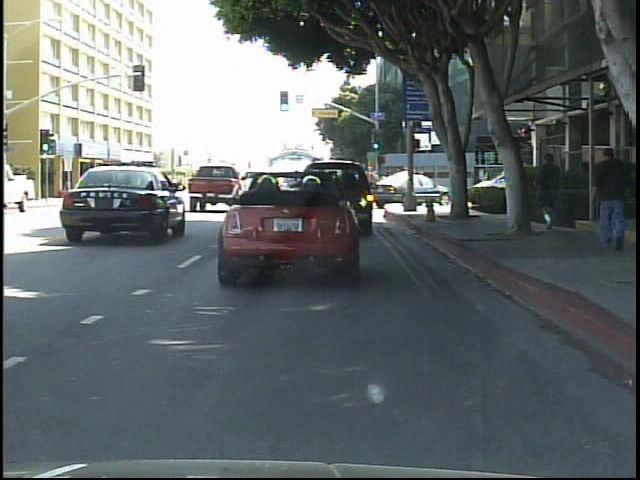person: (591, 141, 636, 260), (531, 146, 570, 236), (134, 175, 152, 202)
